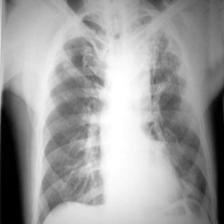tuberculosis: (30, 4, 213, 224)
